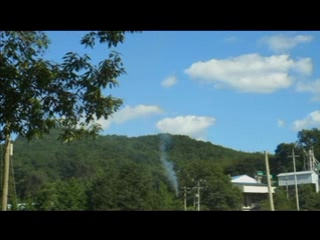smoke: (157, 135, 180, 199)
